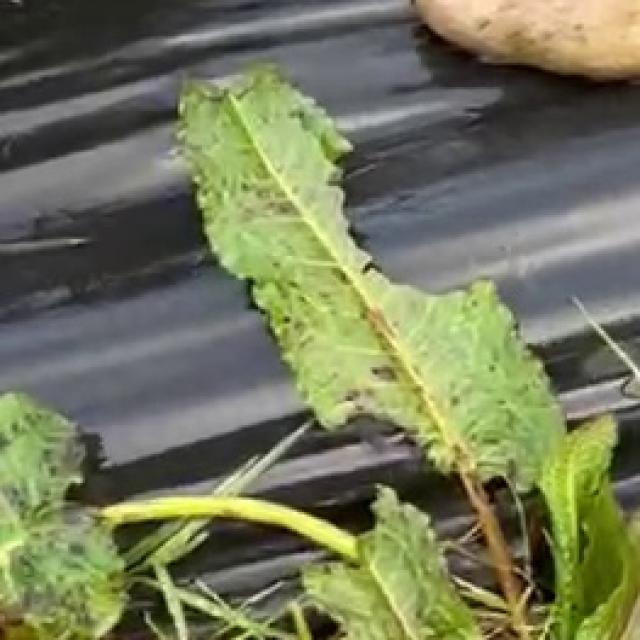organic waste: (0, 34, 591, 640)
